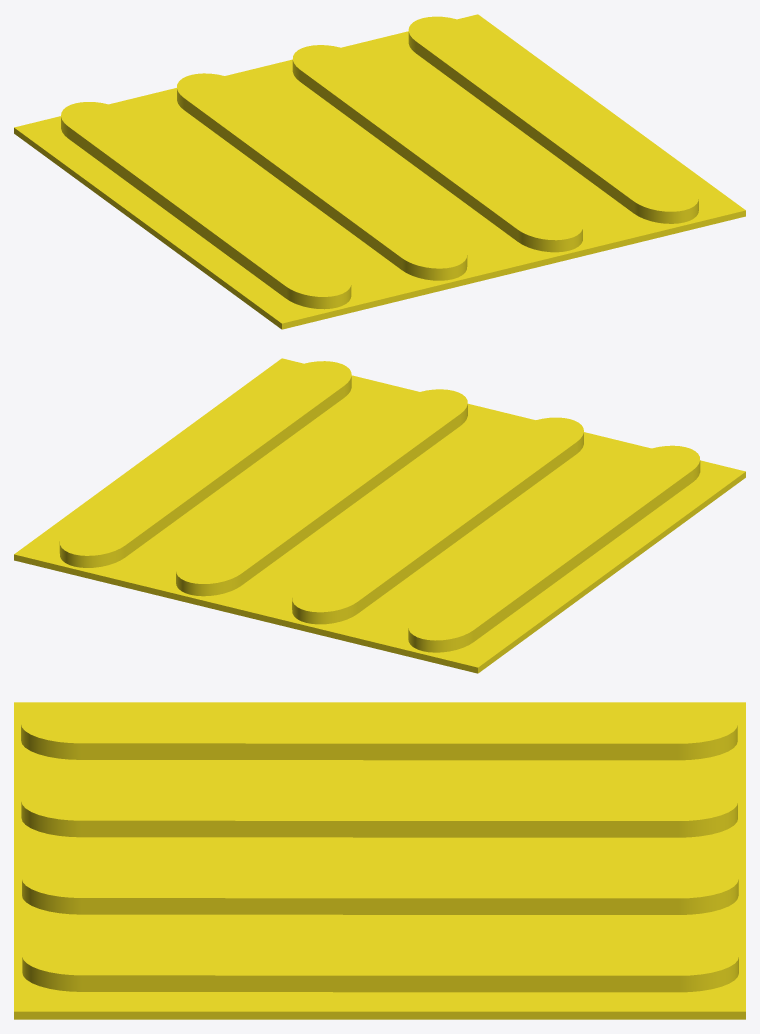
Rendered from yellowblock_1.fbx.
3 views of the same model, one above another, from view 1: azimuth 30°, elevation 25°; view 2: azimuth 150°, elevation 25°; view 3: azimuth 270°, elevation 25° (orthographic). The views are drawn at different scales.
Visible parts, largest first — view 1: 개체_1, 개체_8, 개체_4, 개체_5, 개체_6, 개체_7; view 2: 개체_1, 개체_8, 개체_7, 개체_4, 개체_6, 개체_5; view 3: 개체_8, 개체_1, 개체_6, 개체_5, 개체_7, 개체_4.
Part boxes in pixels (x1,y1,x2,y2): 개체_1: (14,14,745,323); 개체_8: (14,15,745,329); 개체_4: (408,16,698,223); 개체_5: (292,45,582,252); 개체_6: (177,73,467,280); 개체_7: (61,102,351,309); 개체_1: (15,358,745,667); 개체_8: (14,359,745,673); 개체_7: (408,445,700,652); 개체_4: (59,361,351,567); 개체_6: (292,417,583,624); 개체_5: (176,389,467,596); 개체_8: (14,702,745,1019); 개체_1: (14,702,745,1011); 개체_6: (21,782,737,837); 개체_5: (22,859,738,914); 개체_7: (21,704,737,760); 개체_4: (22,936,738,992).
Size of the model in its own units: 8 by 8 by 0.3.
